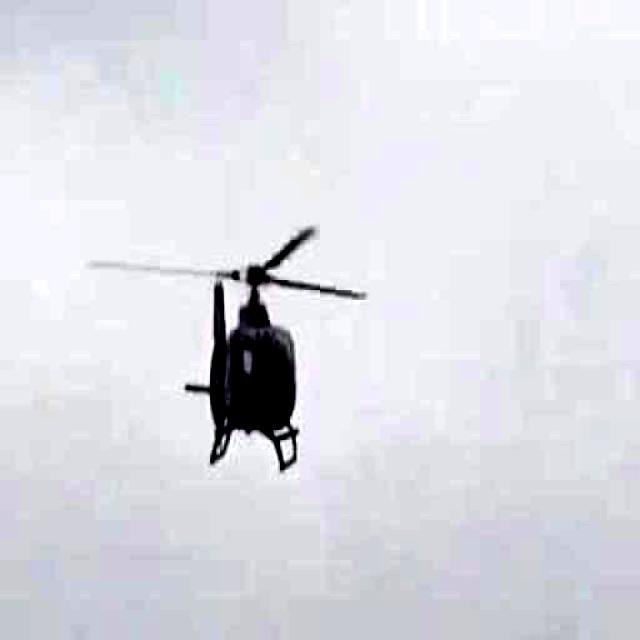drone: (88, 130, 419, 532)
